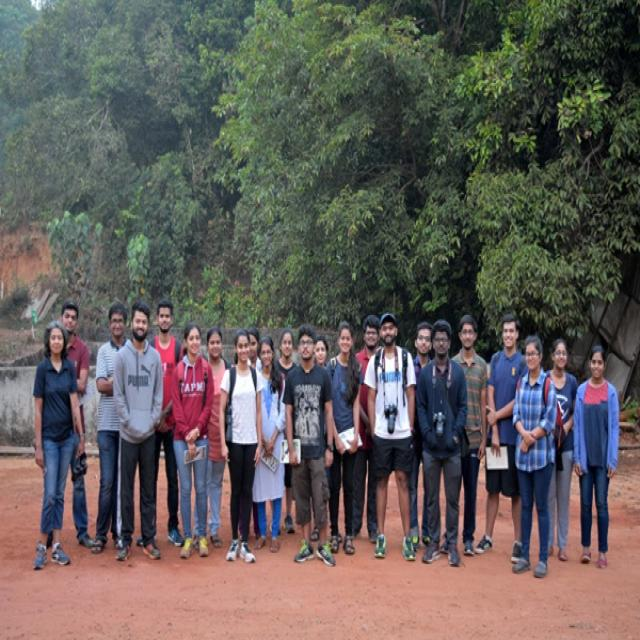body: (278, 322, 342, 571), (29, 319, 90, 574), (472, 310, 531, 566), (361, 309, 420, 564), (110, 298, 165, 563), (412, 316, 467, 568), (508, 330, 563, 581), (45, 300, 97, 548), (440, 311, 490, 558), (168, 321, 216, 561), (217, 326, 264, 567), (572, 343, 621, 571), (92, 300, 133, 556), (147, 295, 187, 550), (323, 319, 365, 556), (192, 323, 235, 553), (349, 312, 385, 546), (251, 336, 289, 554), (544, 336, 580, 563), (267, 326, 302, 539), (406, 321, 438, 550), (244, 326, 265, 373), (312, 335, 329, 370)
